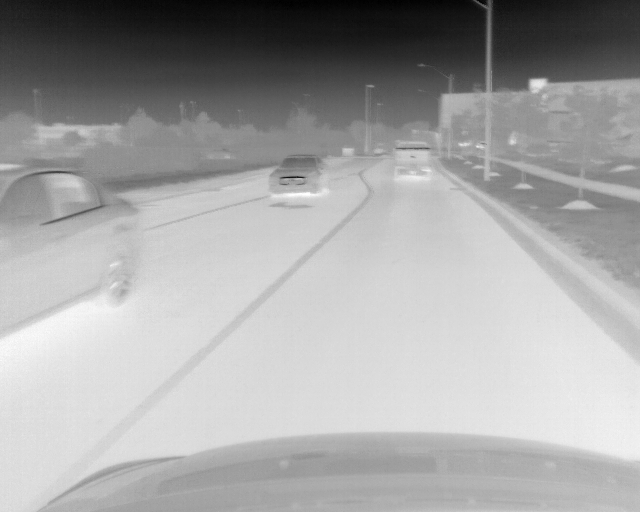car: (1, 165, 140, 337), (268, 153, 331, 207), (391, 139, 433, 186)
